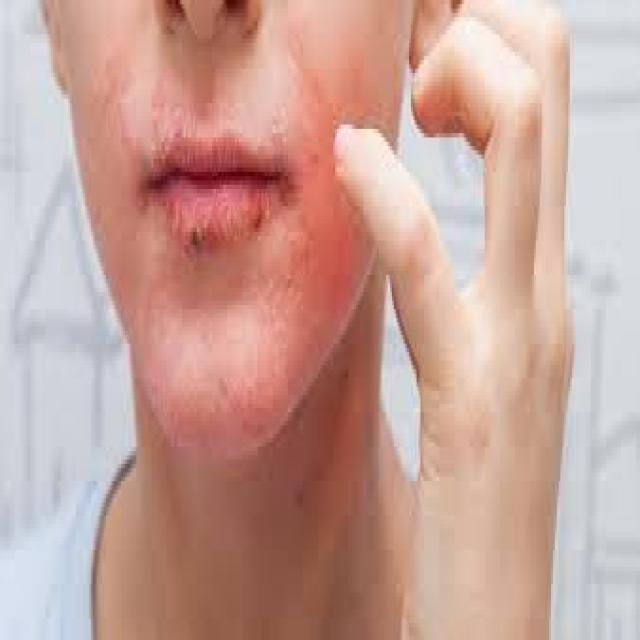Eczema: (181, 211, 261, 288)
